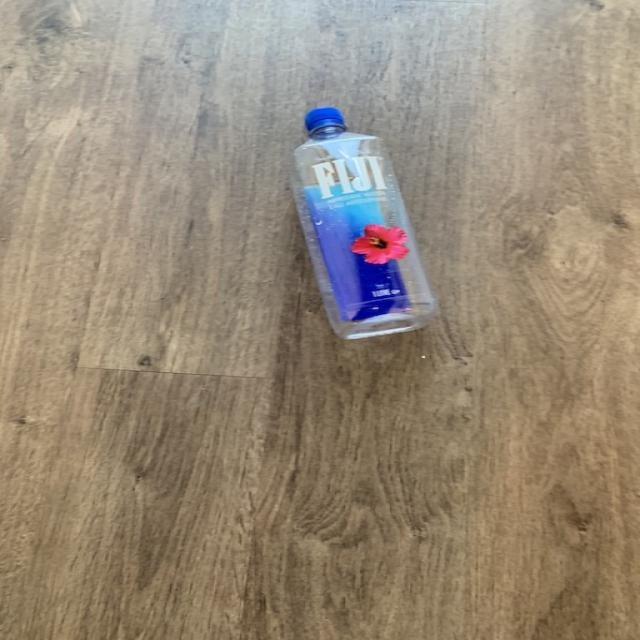Waste: (292, 107, 438, 339)
